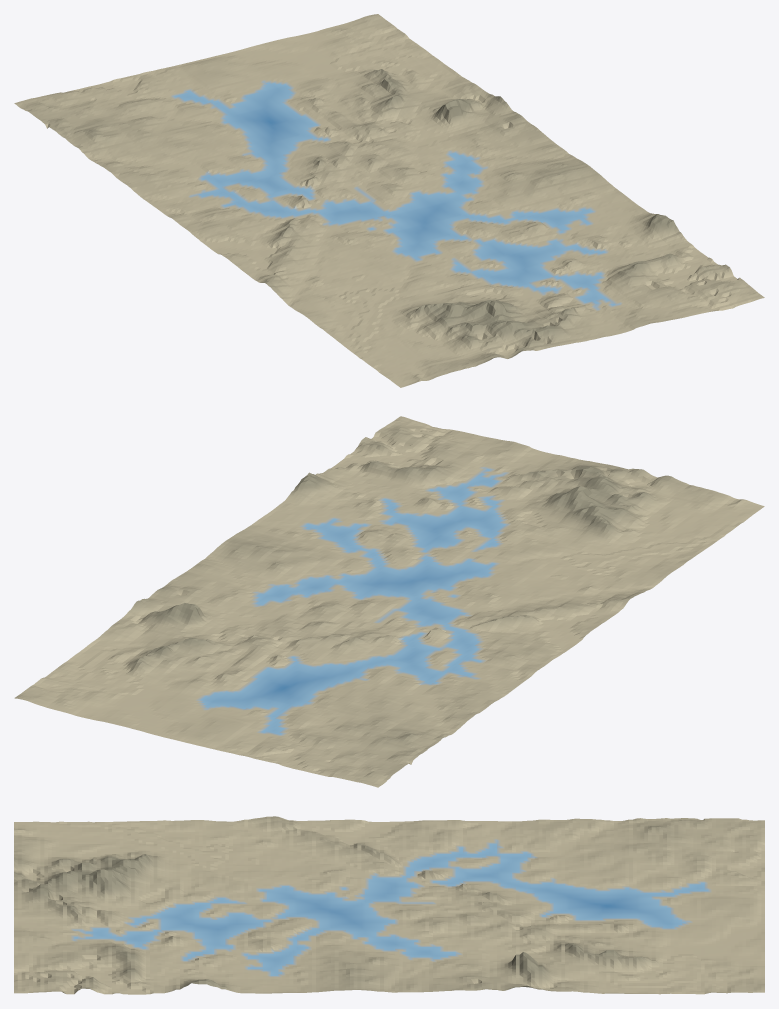
The model's file is moosehead_lake_me.glb.
The picture shows the model from 3 angles, top to bottom: view 1: azimuth 30°, elevation 25°; view 2: azimuth 150°, elevation 25°; view 3: azimuth 270°, elevation 25°; orthographic projection. The views are drawn at different scales.
Visible parts, largest first — view 1: terrain, water; view 2: terrain, water; view 3: terrain, water.
Boxes of the visible parts, x1=… form: terrain: x1=14, y1=14, x2=764, y2=387; water: x1=174, y1=82, x2=615, y2=305; terrain: x1=14, y1=416, x2=764, y2=787; water: x1=200, y1=469, x2=505, y2=734; terrain: x1=14, y1=816, x2=764, y2=994; water: x1=74, y1=843, x2=708, y2=975.
Size of the model in its own units: 29698 by 1614 by 54588.
